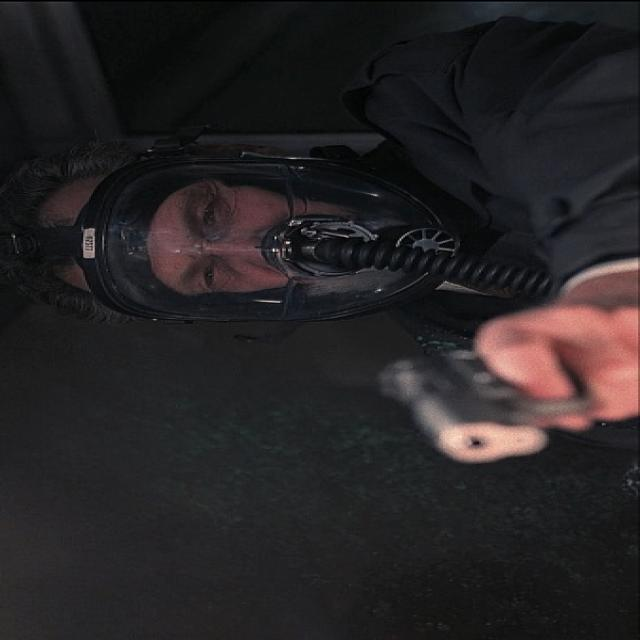weapons: (346, 324, 640, 469)
